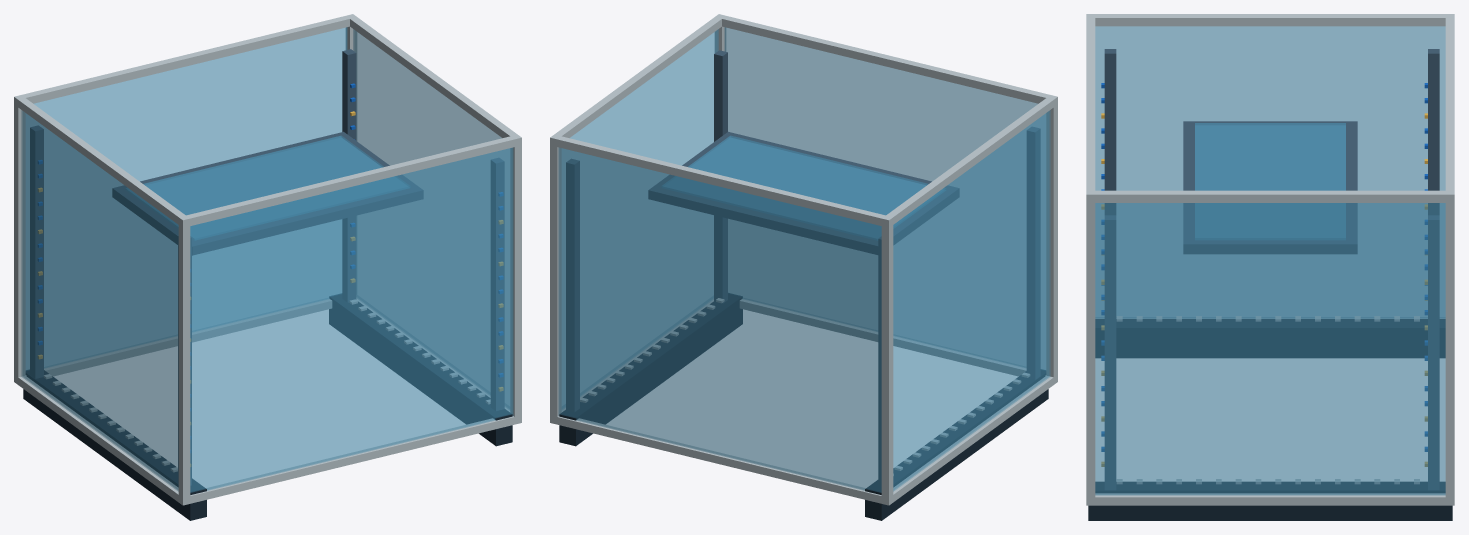
The model's file is 01_L80_TransparentPhotonicCoreEnclosure.fbx.
The picture shows the model from 3 angles, left to right: view 1: azimuth 30°, elevation 25°; view 2: azimuth 150°, elevation 25°; view 3: azimuth 270°, elevation 25°; orthographic projection. The views are drawn at different scales.
Visible parts, largest first — view 1: TransparentPhotonicCoreEnclosure, TransparentPhotonicCoreEnclosure_Part_0114, TransparentPhotonicCoreEnclosure_Part_0115; view 2: TransparentPhotonicCoreEnclosure, TransparentPhotonicCoreEnclosure_Part_0114, TransparentPhotonicCoreEnclosure_Part_0115; view 3: TransparentPhotonicCoreEnclosure, TransparentPhotonicCoreEnclosure_Part_0114, TransparentPhotonicCoreEnclosure_Part_0115.
Part boxes in pixels (left/top/right/bottom): TransparentPhotonicCoreEnclosure: left=14, top=14, right=521, bottom=520; TransparentPhotonicCoreEnclosure_Part_0114: left=112, top=131, right=423, bottom=255; TransparentPhotonicCoreEnclosure_Part_0115: left=125, top=135, right=410, bottom=240; TransparentPhotonicCoreEnclosure: left=550, top=14, right=1057, bottom=520; TransparentPhotonicCoreEnclosure_Part_0114: left=648, top=131, right=959, bottom=254; TransparentPhotonicCoreEnclosure_Part_0115: left=661, top=135, right=946, bottom=240; TransparentPhotonicCoreEnclosure: left=1086, top=14, right=1454, bottom=520; TransparentPhotonicCoreEnclosure_Part_0114: left=1183, top=121, right=1357, bottom=253; TransparentPhotonicCoreEnclosure_Part_0115: left=1195, top=123, right=1345, bottom=239.
Bounding box in the file's own units: 510 × 436 × 440.
